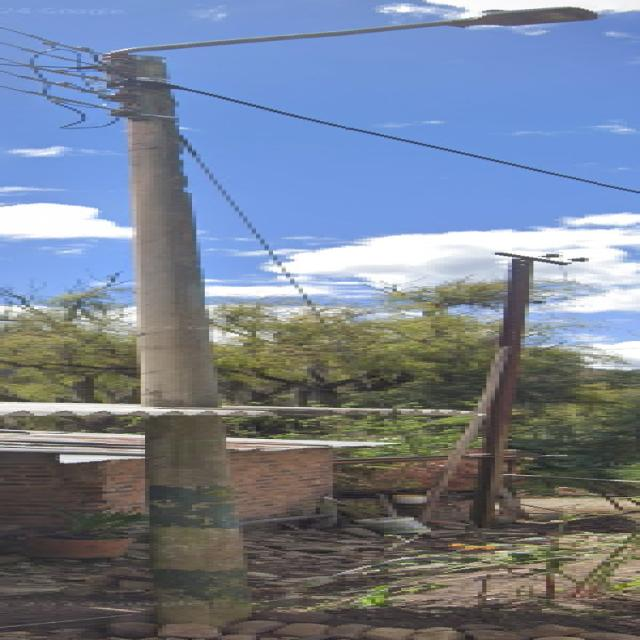Poste: (107, 7, 593, 625)
